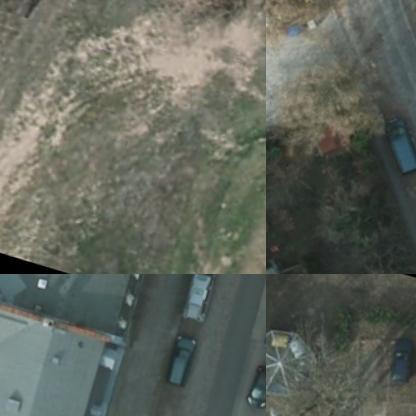car: (164, 327, 204, 386), (380, 111, 415, 177), (387, 333, 415, 387), (249, 360, 265, 407), (262, 290, 265, 350)
van: (181, 274, 222, 321)
